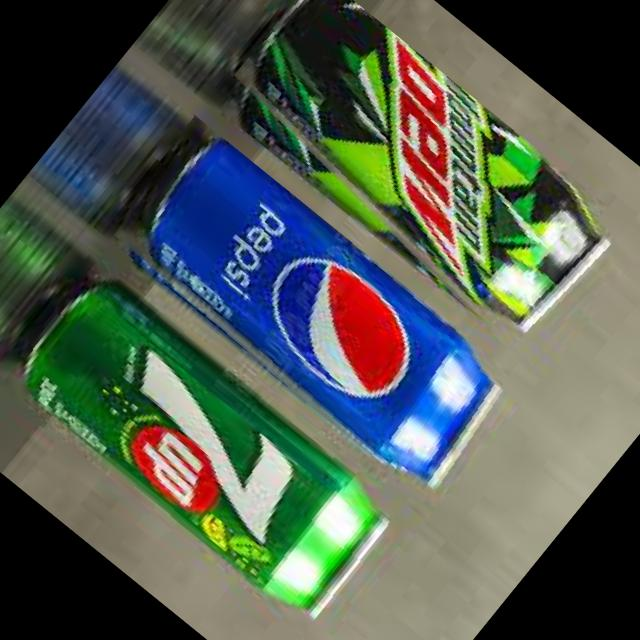Cans: (92, 114, 530, 511), (205, 0, 640, 382), (0, 253, 420, 640)
